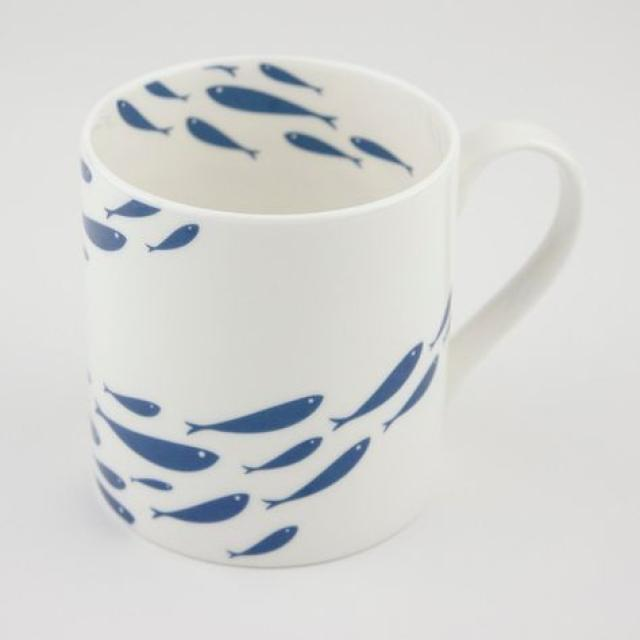glass cup: (81, 55, 586, 568)
